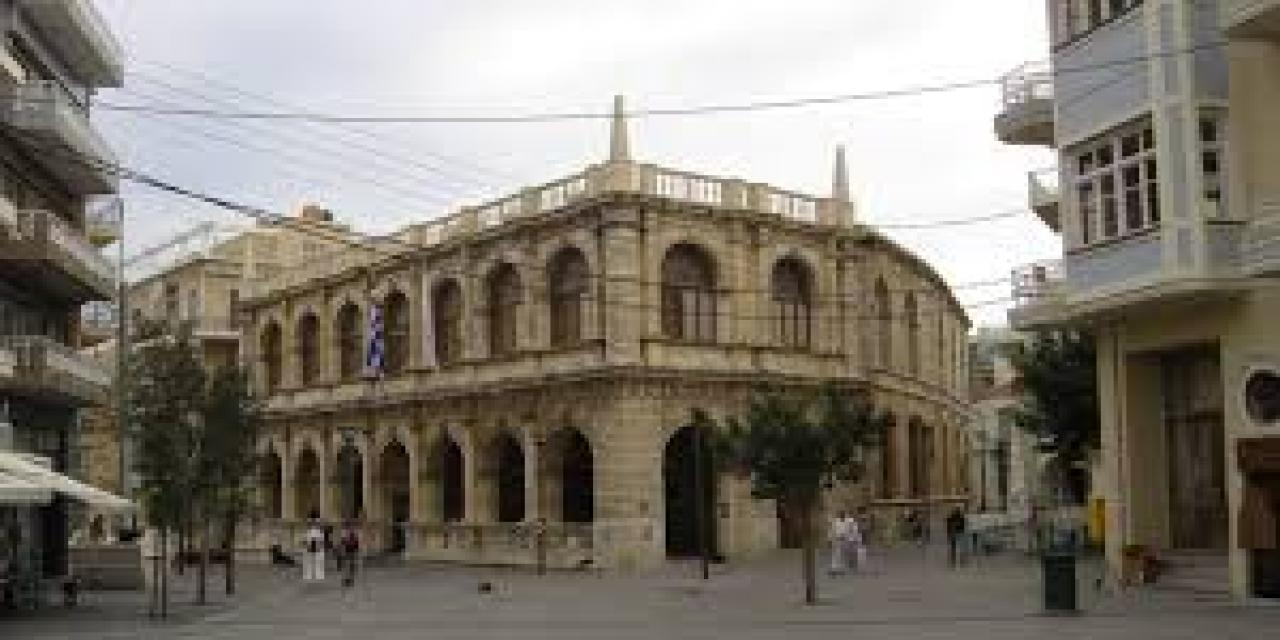Loggia: (245, 93, 972, 572)
